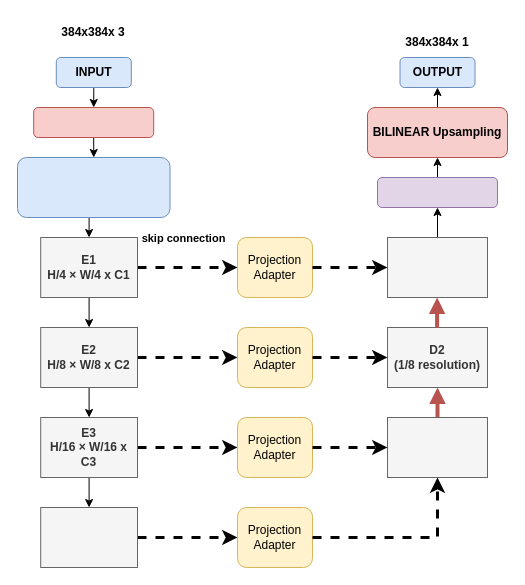
Some shapes in this 525 by 585 pixel diagram are drawn without their labels. The shapes that lost their labels are listed below. From the top down, each one's centre as x and y in pixels, then its label:
the point at 93,122: Normalization
the point at 93,187: ConvnextV2 Encoder (pretrained)
the point at 437,192: Segmentation head
the point at 437,267: D1 (1/4 resolution)
the point at 437,447: D3 (1/16 resolution)
the point at 89,537: E4 H/32 × W/32 x C4
